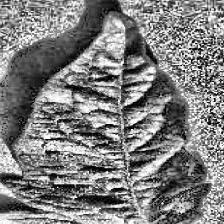Blossom Blight: (44, 136, 96, 160), (92, 98, 128, 132), (134, 68, 166, 100), (136, 119, 168, 143), (99, 209, 149, 224)
